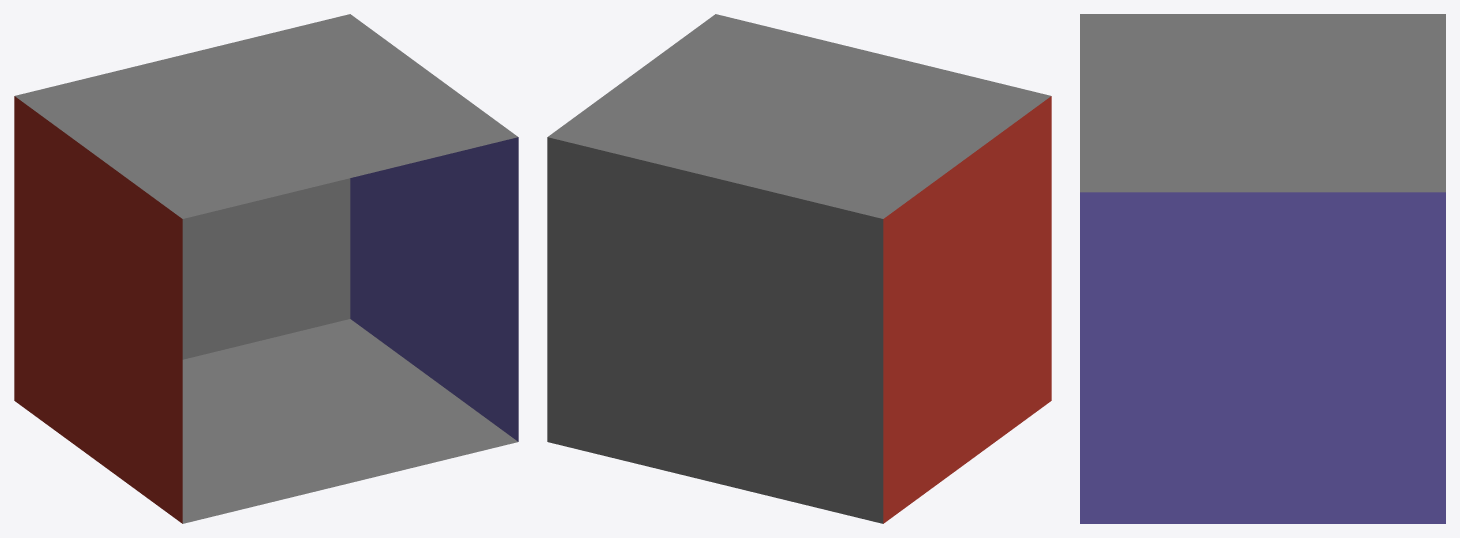
The model's file is scene01_perfect_sphere.obj.
3 renders of one model, left to right at view 1: azimuth 30°, elevation 25°; view 2: azimuth 150°, elevation 25°; view 3: azimuth 270°, elevation 25°, orthographic. The views are drawn at different scales.
Parts seen in each view (by area): view 1: pCube1; view 2: pCube1; view 3: pCube1.
Part boxes in pixels (x1,y1,x2,y2): pCube1: (14,14,518,523); pCube1: (547,14,1051,523); pCube1: (1080,14,1445,523).
Size of the model in its own units: 11.53 by 10 by 10.
